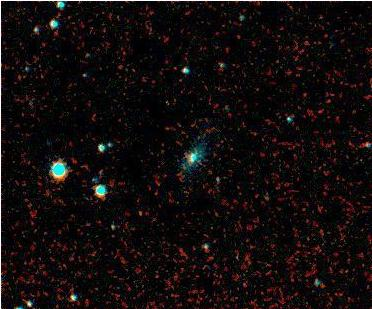star: (126, 198, 156, 228)
